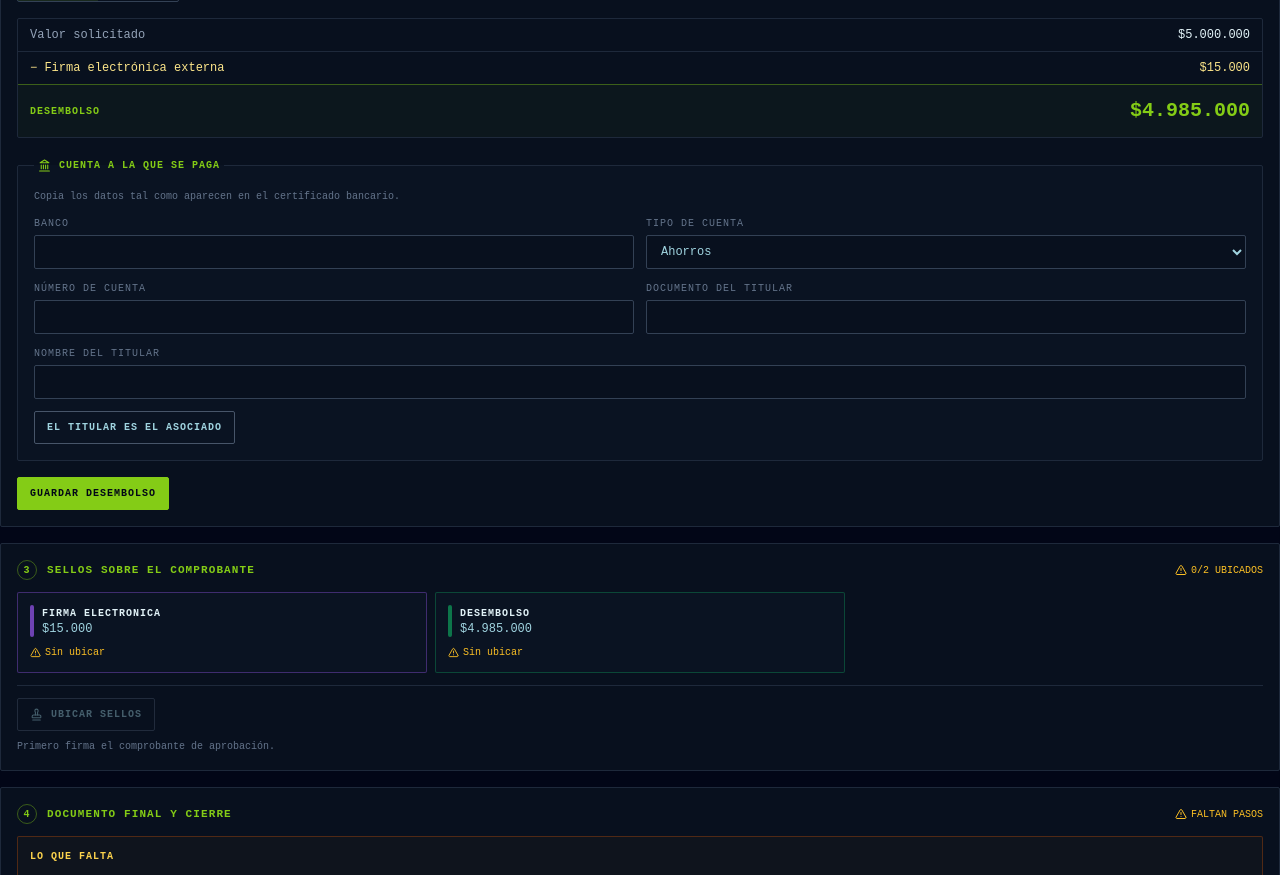
Test: Cierre de Cartera — cuenta bancaria del asociado › "el titular es el asociado" llena el nombre y el documento
(page scrolled)
Step 1. Click the button "EL TITULAR ES EL ASOCIADO" → (134, 428), box [34,411,235,444]
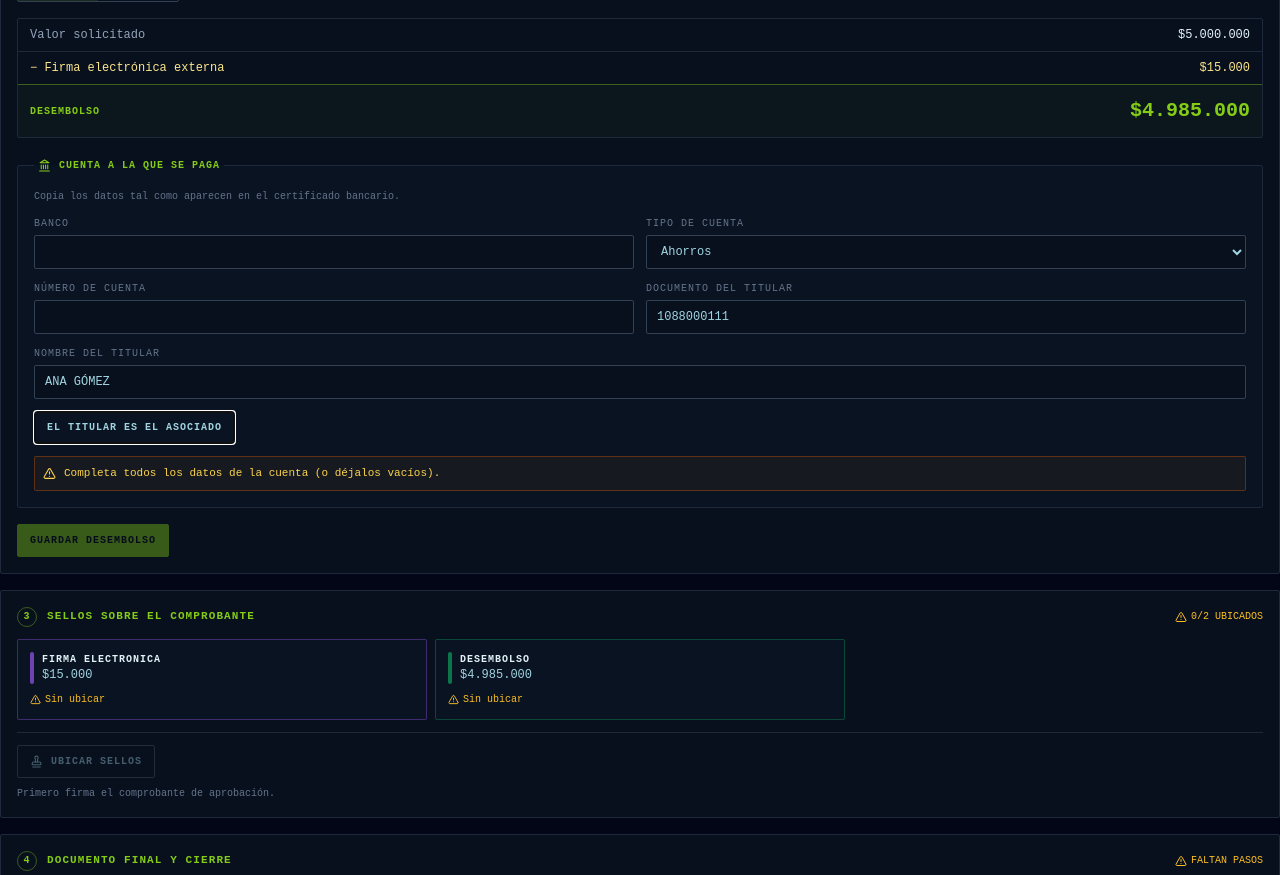
Expected: the field labelled "NOMBRE DEL TITULAR" holds "ANA GÓMEZ", [34,365,1246,399]
Expected: the field labelled "DOCUMENTO DEL TITULAR" holds "1088000111", [646,300,1246,334]
